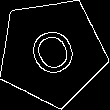O_SE: (22, 20, 83, 84)
